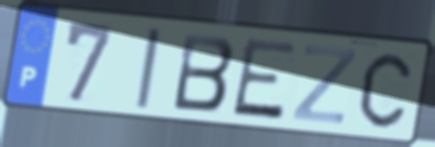7: (63, 18, 116, 105)
B: (171, 30, 238, 115)
C: (357, 50, 414, 131)
E: (228, 36, 300, 123)
I: (133, 25, 164, 112)
Z: (289, 42, 360, 127)
